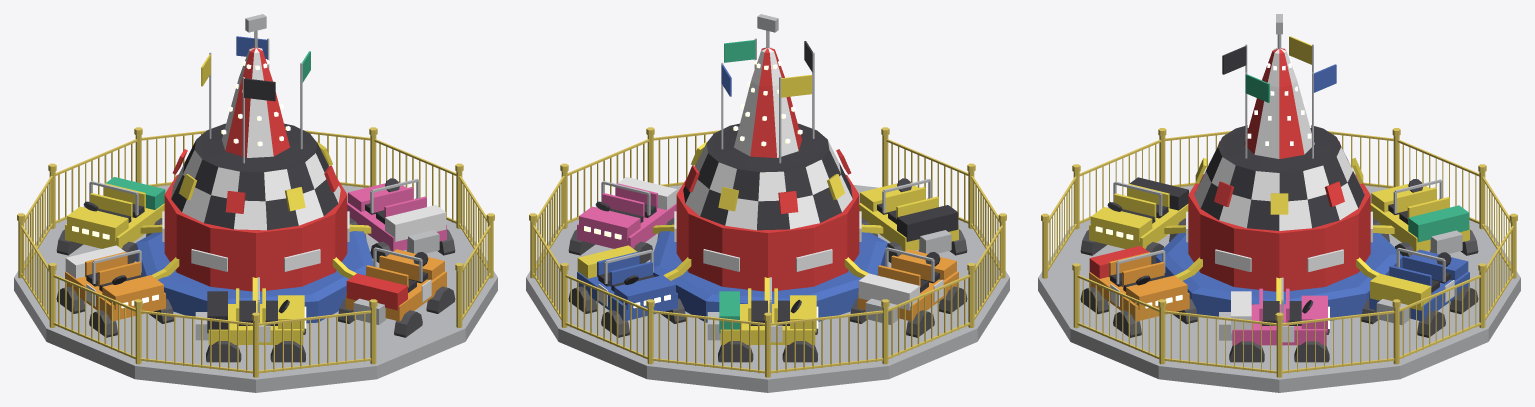
3 renders of one model, left to right at view 1: azimuth 30°, elevation 25°; view 2: azimuth 150°, elevation 25°; view 3: azimuth 270°, elevation 25°, orthographic.
Parts seen in each view (by area): view 1: base, rotor, lift5, lift3, lift0, lift2, lift4; view 2: base, rotor, lift3, lift1, lift4, lift0, lift2; view 3: base, rotor, lift1, lift5, lift2, lift0, lift4.
Boxes of the visible parts, x1,y1,x2,y2 form: base: (14, 127, 497, 392); rotor: (162, 14, 349, 291); lift5: (332, 247, 455, 337); lift3: (56, 245, 179, 337); lift0: (347, 178, 455, 262); lift2: (56, 177, 165, 263); lift4: (195, 277, 306, 362); base: (526, 127, 1009, 392); rotor: (674, 14, 861, 291); lift3: (844, 247, 967, 337); lift1: (568, 245, 691, 337); lift4: (859, 178, 967, 262); lift0: (568, 177, 677, 263); lift2: (707, 277, 818, 362); base: (1038, 128, 1520, 392); rotor: (1186, 14, 1372, 291); lift1: (1356, 248, 1478, 337); lift5: (1080, 245, 1202, 337); lift2: (1370, 179, 1478, 256); lift0: (1219, 277, 1329, 362); lift4: (1080, 177, 1188, 264).
Bounding box in the file's own units: 8.2 × 5.11 × 8.2.
